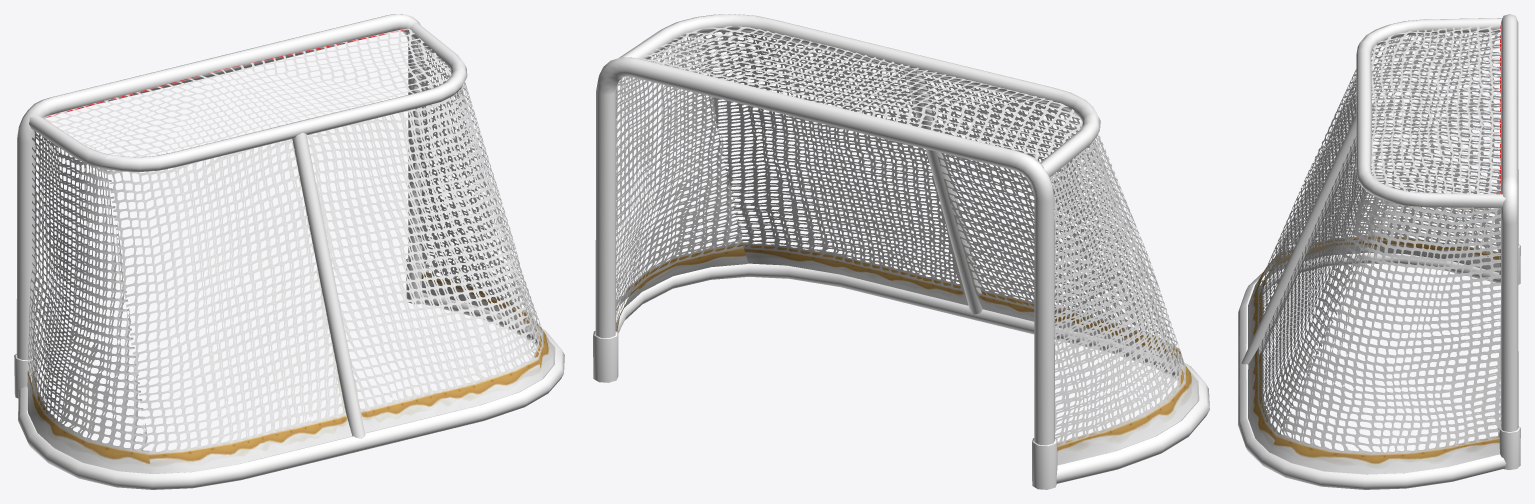
The model's file is Goal.fbx.
The picture shows the model from 3 angles, left to right: view 1: azimuth 30°, elevation 25°; view 2: azimuth 150°, elevation 25°; view 3: azimuth 270°, elevation 25°; orthographic projection. The views are drawn at different scales.
Parts seen in each view (by area): view 1: Goal; view 2: Goal; view 3: Goal.
Part boxes in pixels (x1,y1,x2,y2): Goal: (14,14,564,489); Goal: (593,14,1209,489); Goal: (1238,14,1520,489).
Bounding box in the file's own units: 1537 × 857 × 786.
2 materials, 1 textured.
